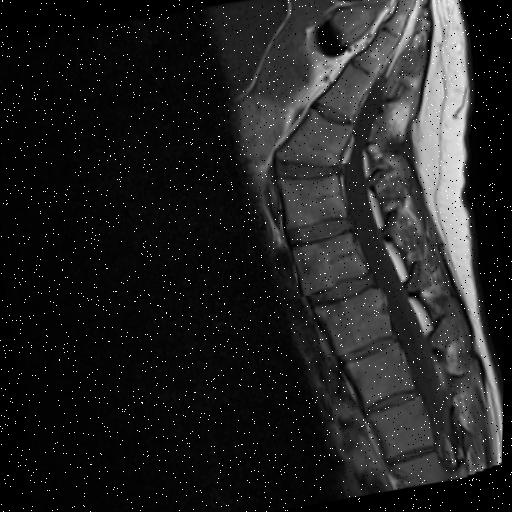L1: (368, 394, 434, 457)
L2: (343, 340, 414, 406)
L3: (315, 287, 392, 354)
L4: (292, 232, 366, 293)
L5: (279, 172, 346, 227)
S1: (275, 107, 352, 165)
